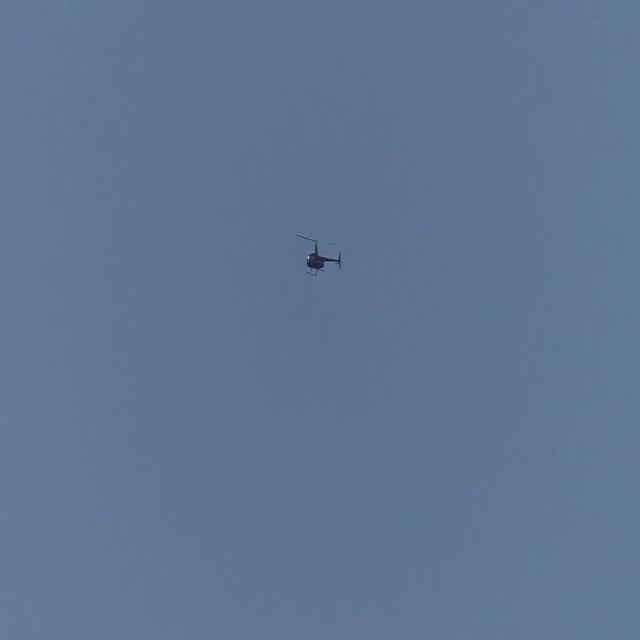CIV_HELO: (307, 238, 342, 282)
